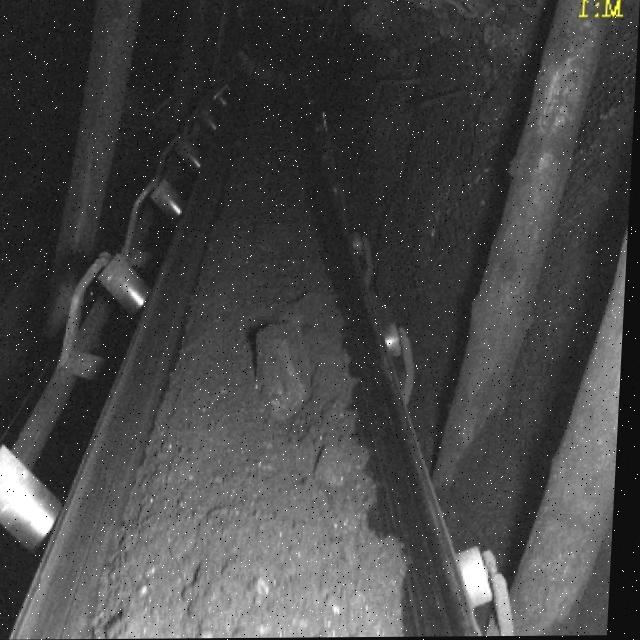large_sized_coal: (257, 315, 318, 423)
